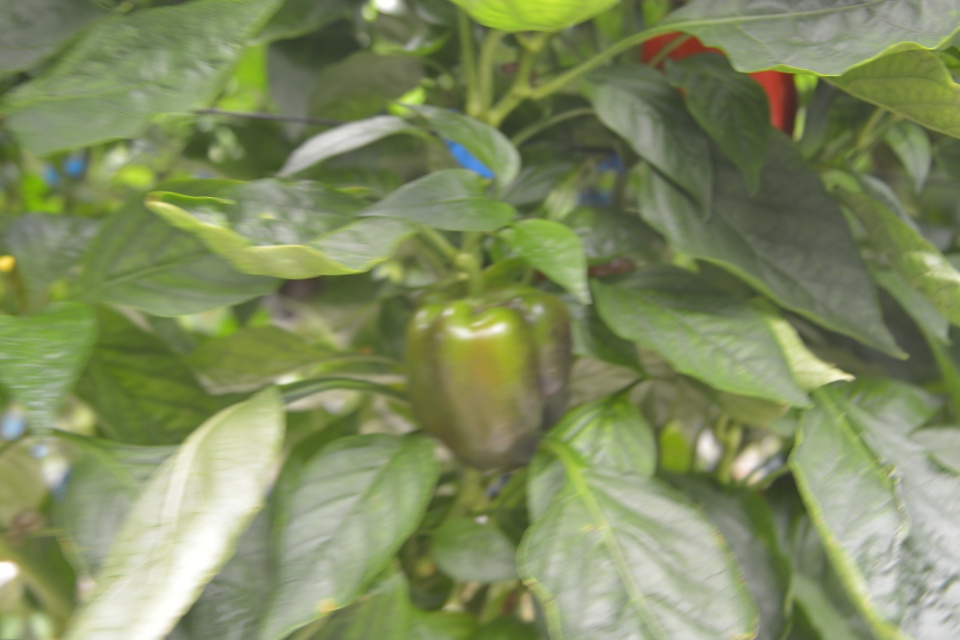fruit: (401, 271, 580, 480), (641, 32, 798, 141)
pedicle: (460, 291, 496, 304)
